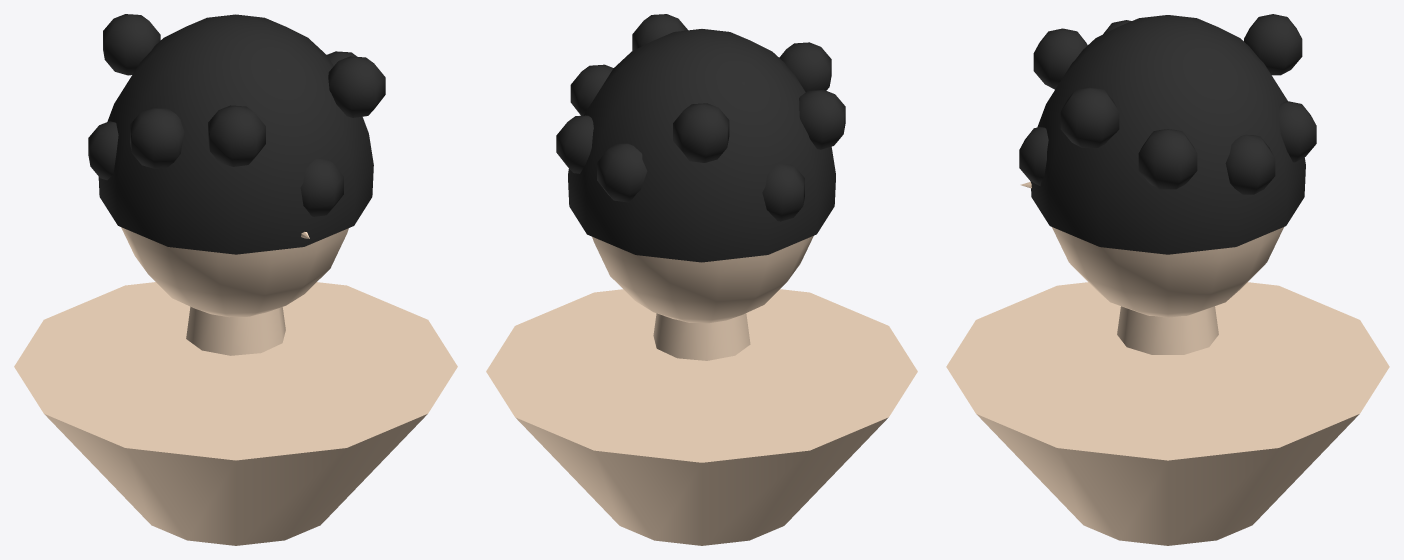
File: raw_001.glb
The picture shows the model from 3 angles, left to right: view 1: azimuth 30°, elevation 25°; view 2: azimuth 150°, elevation 25°; view 3: azimuth 270°, elevation 25°; orthographic projection. The views are drawn at different scales.
Size of the model in its own units: 1.83 by 2.18 by 1.83.
